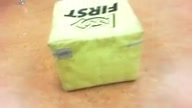cube: (47, 1, 144, 92)
